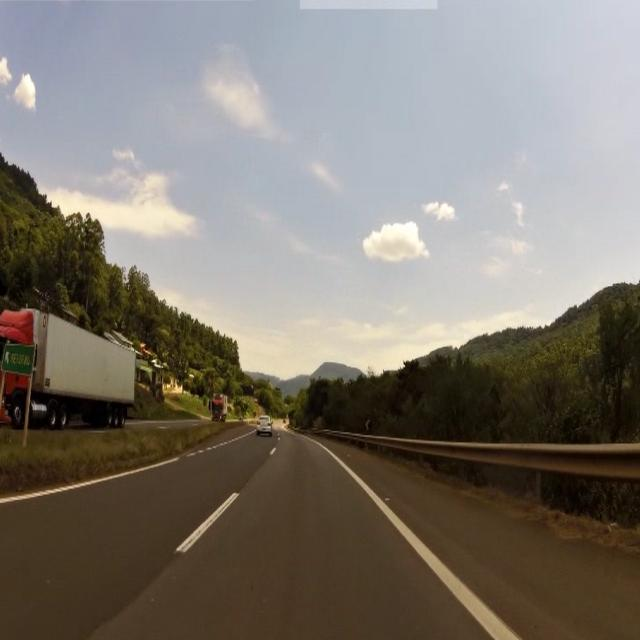Del: (365, 417, 373, 430)
